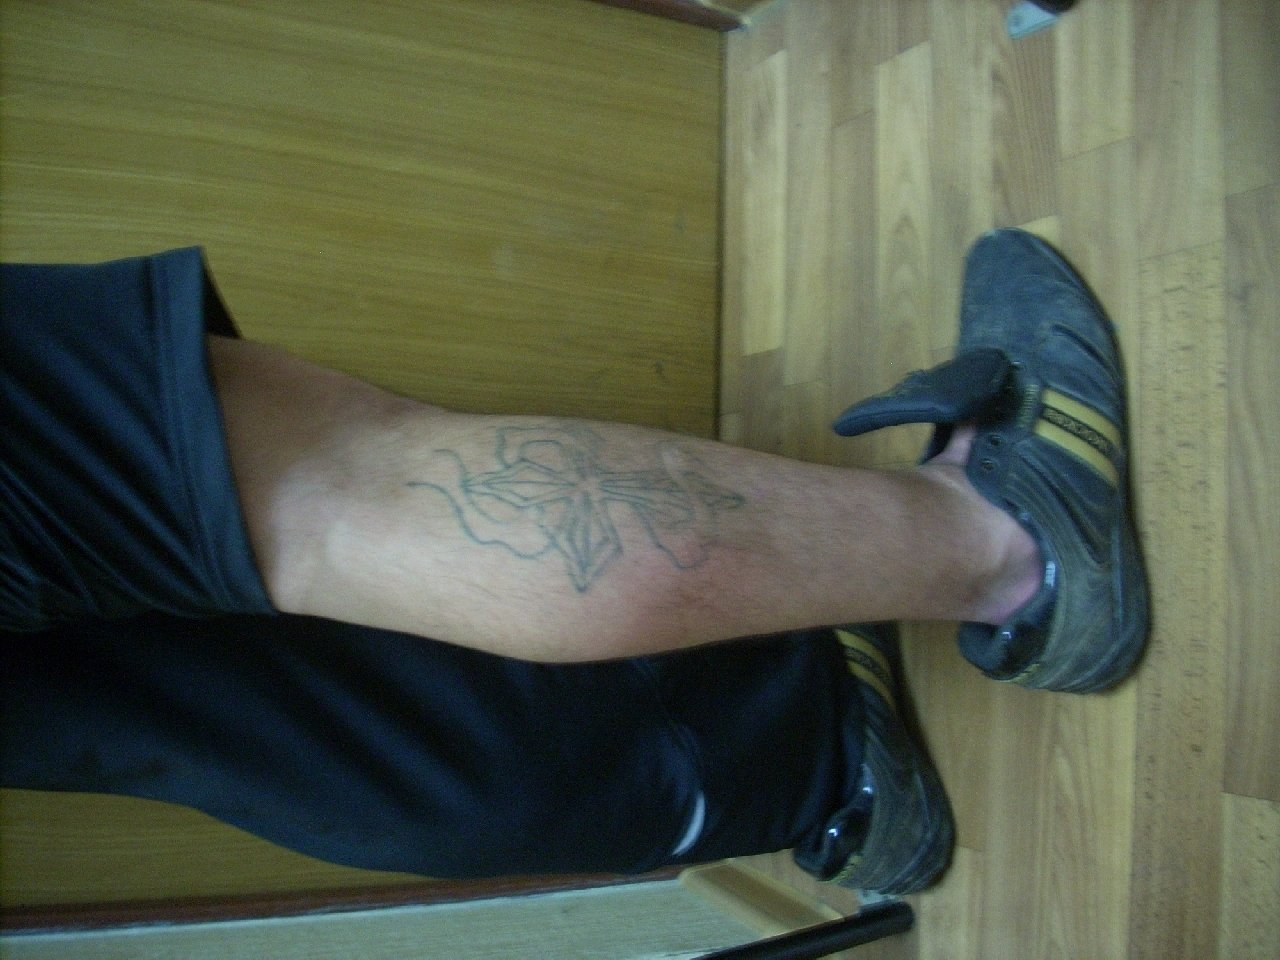tatu9_krest: (454, 433, 754, 592)
